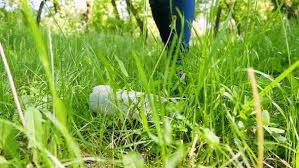plastic_bottle: (89, 84, 188, 132)
